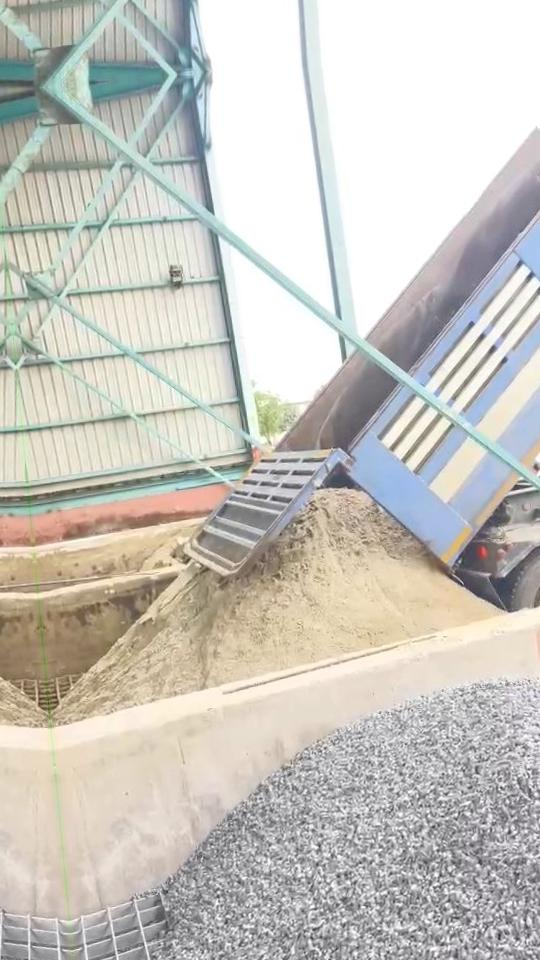gravel: (147, 680, 540, 960)
sand: (56, 489, 497, 722), (141, 534, 187, 570)
